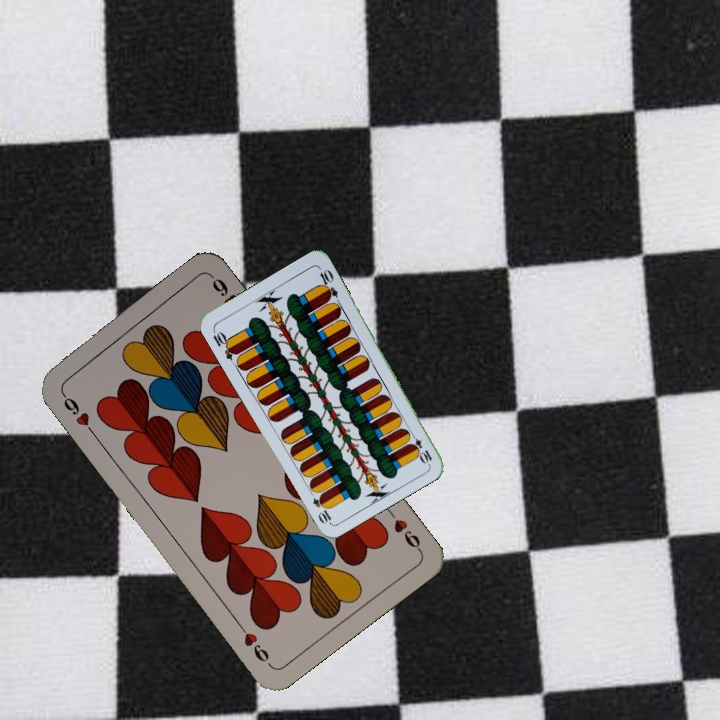E10: (209, 326, 240, 363), (405, 428, 435, 466)
H9: (382, 504, 424, 554), (57, 387, 98, 438)
